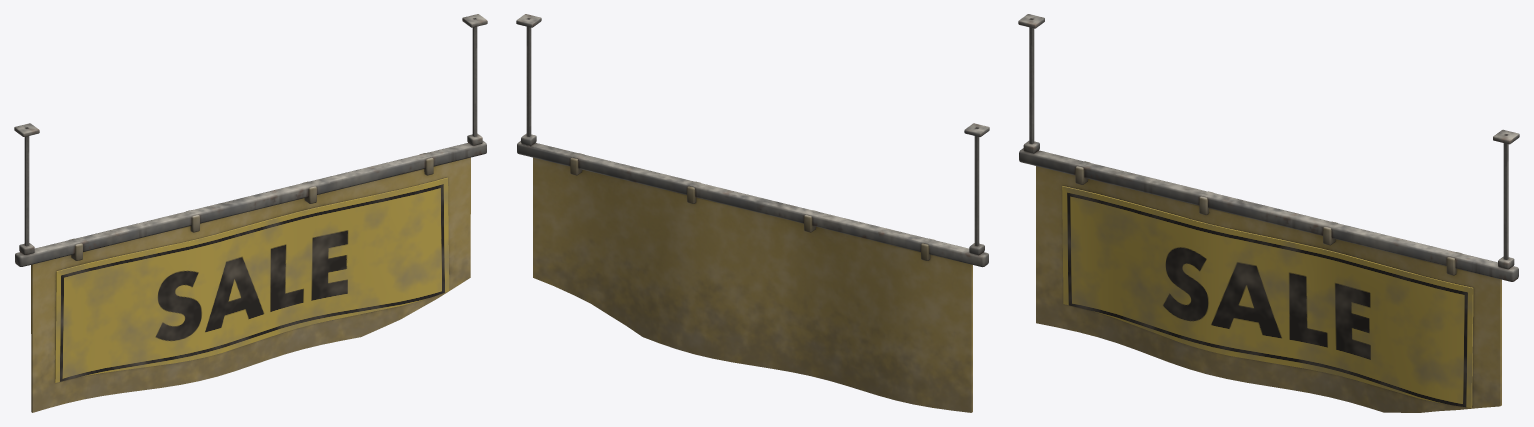
Rendered from sale_banner.fbx.
3 renders of one model, left to right at view 1: azimuth 30°, elevation 25°; view 2: azimuth 150°, elevation 25°; view 3: azimuth 330°, elevation 25°, orthographic. The views are drawn at different scales.
Visible parts, largest first — view 1: Screen, Body; view 2: Body; view 3: Screen, Body.
Part boxes in pixels (<box>): Screen: <box>55,177,449,382</box>; Body: <box>14,14,487,412</box>; Body: <box>516,14,989,412</box>; Screen: <box>1062,186,1473,407</box>; Body: <box>1018,14,1519,412</box>.
Size of the model in its own units: 9.6 by 5.72 by 0.34.
2 materials, 2 textured.
